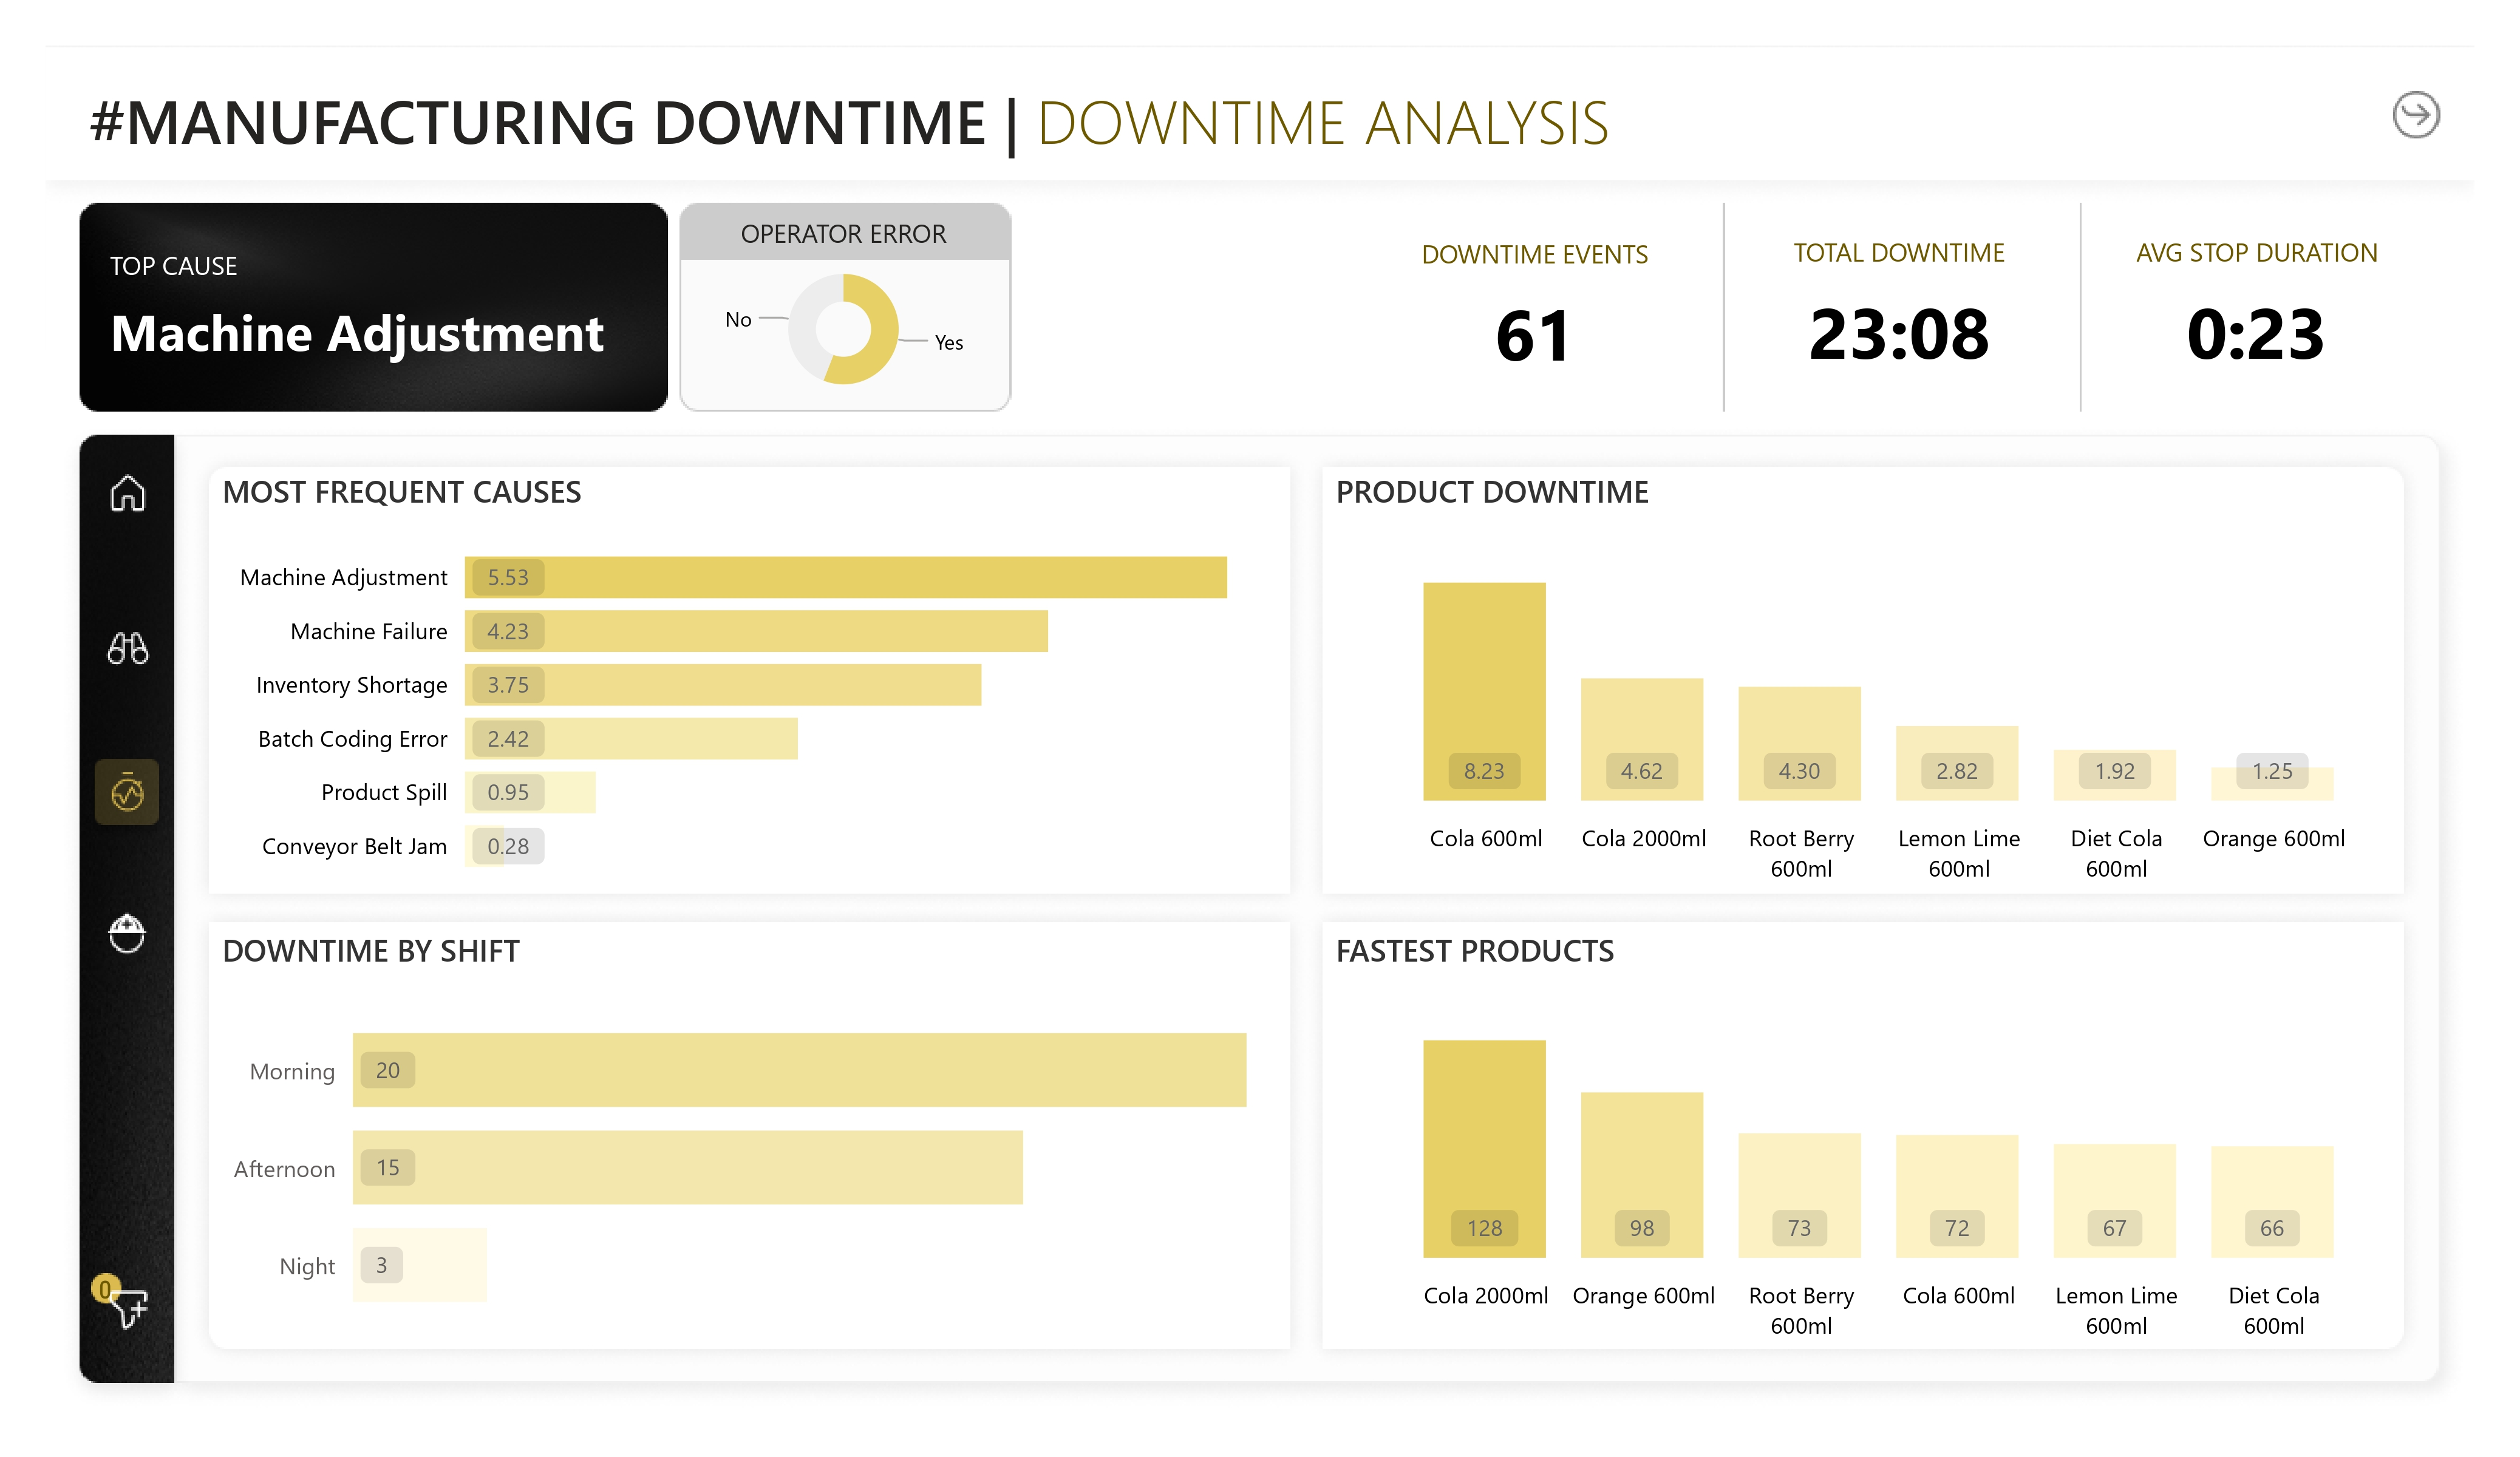

What the dashboard file says about the page in this screenshot:
{"tool":"powerbi","page":{"name":"Downtime Analysis","canvas":[1280,720],"ordinal":2},"visuals":[{"type":"donutChart","title":"OPERATOR ERROR","fields":{"Y":["_Measures.Total Downtime (M)"],"Category":["dDowntimeFactors.Operator Error"]},"box":[333.4,82.5,174.7,110],"z":0},{"type":"card","fields":{"Values":["_Measures.Active Filters"]},"box":[21.3,644.2,19.5,19.5],"z":0,"group":"g1"},{"type":"cardVisual","fields":{"Data":["Min(dDowntimeFactors.Description)"]},"box":[16.8,82.5,310.3,110.8],"z":1000},{"type":"actionButton","box":[17.8,638,49.7,50.5],"z":1000,"group":"g1"},{"type":"cardVisual","fields":{"Data":["_Measures.Total Downtime (H:M)"]},"box":[883.2,81.6,188,110.8],"z":2000},{"type":"cardVisual","fields":{"Data":["_Measures.Avg Downtime (H:M)"]},"box":[1071.1,81.6,188.9,110.8],"z":3000},{"type":"clusteredBarChart","title":"MOST FREQUENT CAUSES","fields":{"Category":["dDowntimeFactors.Description"],"Y":["_Measures.Total Downtime (H)"]},"box":[88.4,224,569.8,225.9],"z":4000},{"type":"columnChart","title":"PRODUCT DOWNTIME","fields":{"Category":["dProducts.Product Name"],"Y":["_Measures.Total Downtime (H)"]},"box":[674.9,224,570.7,225],"z":5000},{"type":"clusteredColumnChart","title":"FASTEST PRODUCTS","fields":{"Category":["dProducts.Product Name"],"Y":["_Measures.Avg Operating Time (M)"]},"box":[674.9,465.6,570.7,224],"z":6000},{"type":"cardVisual","fields":{"Data":["CountNonNull(fLineDowntime.DownTime(Min))"]},"box":[687.2,82.5,196,110.8],"z":7000},{"type":"clusteredBarChart","title":"DOWNTIME BY SHIFT","fields":{"Category":["fLineProductivity.Day Shift"],"Y":["CountNonNull(fLineProductivity.BatchID)"]},"box":[88.4,465.6,569.8,224],"z":8000},{"type":"textbox","box":[18.2,11.8,896.6,57.2],"z":10000},{"type":"actionButton","box":[1224.5,10.6,49.7,50.5],"z":11000},{"type":"pageNavigator","box":[17,205,50,305],"z":12000},{"type":"group","id":"g1","title":"Filter Button","box":[17.8,638,49.7,50.5],"z":13000}]}

Visuals, with their boxes on the page's 1280x720 design canvas (x1, y1, x2, y2). These are canvas units, not pixel positions in the 2520x1457 screenshot, which may show the page scaled, cropped or inside an application window:
"OPERATOR ERROR" donutChart: region(333, 82, 508, 192)
card - _Measures.Active Filters: region(21, 644, 41, 664)
cardVisual - Min(dDowntimeFactors.Description): region(17, 82, 327, 193)
actionButton: region(18, 638, 68, 688)
cardVisual - _Measures.Total Downtime (H:M): region(883, 82, 1071, 192)
cardVisual - _Measures.Avg Downtime (H:M): region(1071, 82, 1260, 192)
"MOST FREQUENT CAUSES" clusteredBarChart: region(88, 224, 658, 450)
"PRODUCT DOWNTIME" columnChart: region(675, 224, 1246, 449)
"FASTEST PRODUCTS" clusteredColumnChart: region(675, 466, 1246, 690)
cardVisual - CountNonNull(fLineDowntime.DownTime(Min)): region(687, 82, 883, 193)
"DOWNTIME BY SHIFT" clusteredBarChart: region(88, 466, 658, 690)
textbox: region(18, 12, 915, 69)
actionButton: region(1224, 11, 1274, 61)
pageNavigator: region(17, 205, 67, 510)
"Filter Button" group: region(18, 638, 68, 688)
